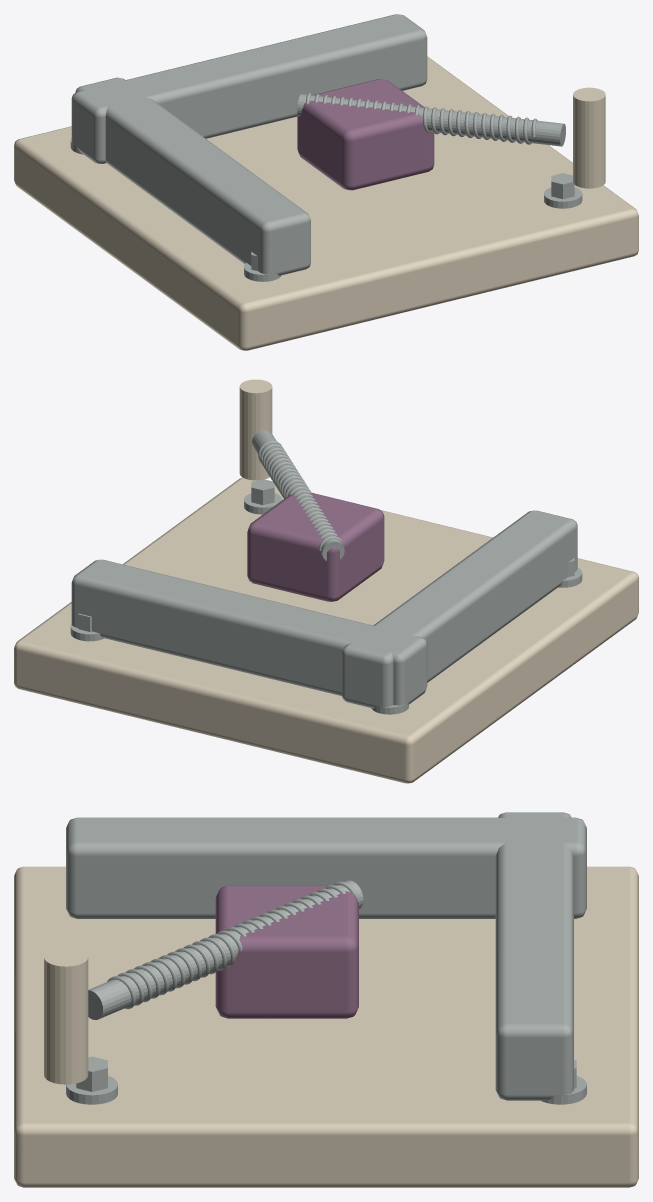
Rendered from museum-conservation-and-art-restoration-museum-conserv-efd72df5__31892.glb.
3 renders of one model, top to bottom at view 1: azimuth 30°, elevation 25°; view 2: azimuth 150°, elevation 25°; view 3: azimuth 270°, elevation 25°, orthographic. The views are drawn at different scales.
Parts seen in each view (by area): view 1: museum-conservation-and-art-restoration-frame-corner-clampin (×3); view 2: museum-conservation-and-art-restoration-frame-corner-clampin (×3); view 3: museum-conservation-and-art-restoration-frame-corner-clampin (×3).
Boxes of the visible parts, bbox=[...] form: museum-conservation-and-art-restoration-frame-corner-clampin (×3): bbox=[14, 14, 638, 350]; museum-conservation-and-art-restoration-frame-corner-clampin (×3): bbox=[14, 379, 638, 783]; museum-conservation-and-art-restoration-frame-corner-clampin (×3): bbox=[14, 812, 638, 1187].
Bounding box in the file's own units: 0.48 × 0.18 × 0.48.
